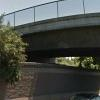Bridge: (5, 5, 92, 59)
